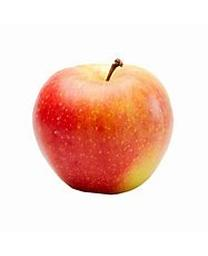apple: (32, 57, 174, 194)
